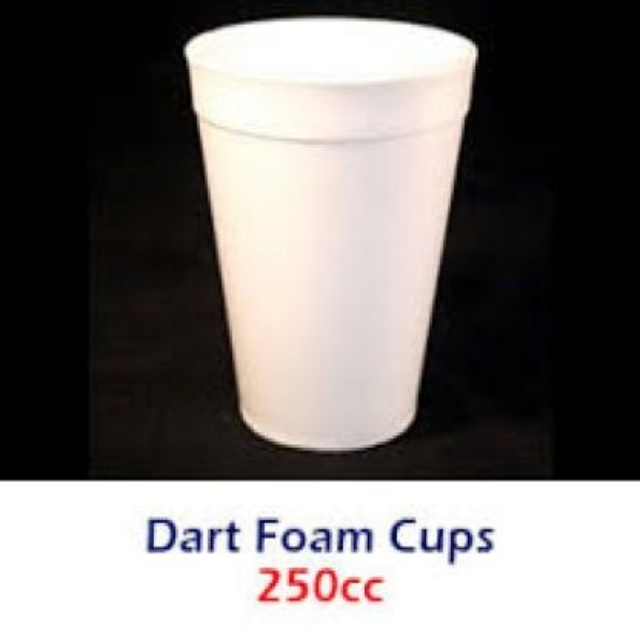trash: (185, 18, 475, 449)
